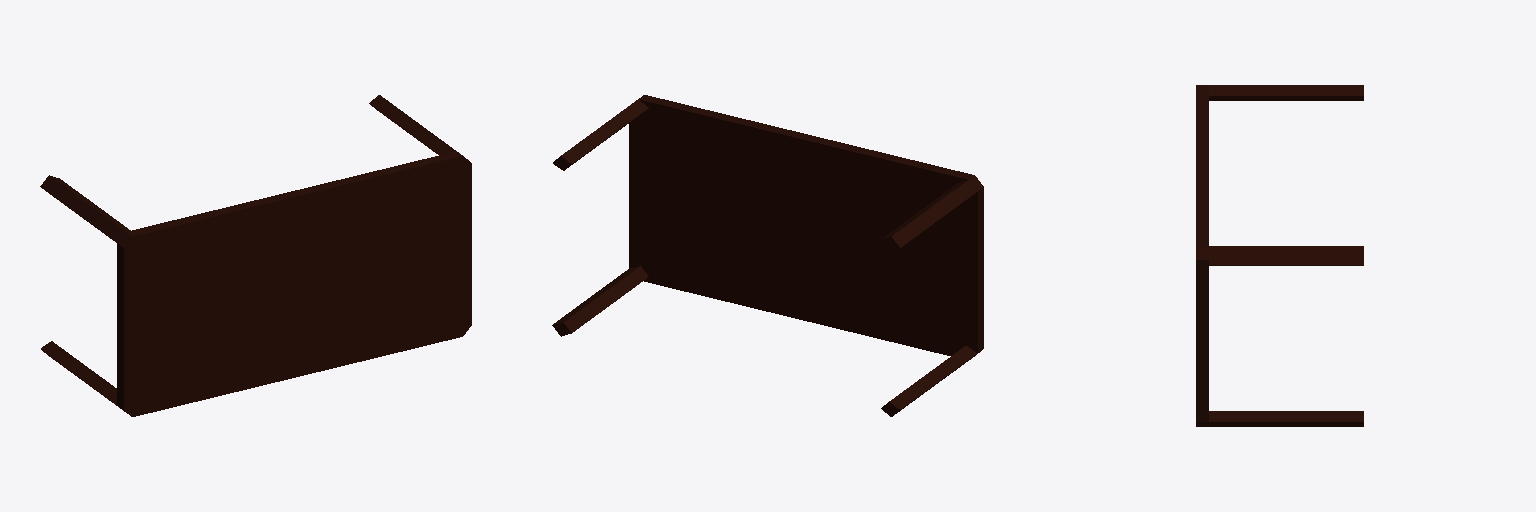
File: Table_01.obj
3 renders of one model, left to right at view 1: azimuth 30°, elevation 25°; view 2: azimuth 150°, elevation 25°; view 3: azimuth 270°, elevation 25°, orthographic.
Parts seen in each view (by area): view 1: pCube27; view 2: pCube27; view 3: pCube27.
Boxes of the visible parts, x1,y1,x2,y2 form: pCube27: [40, 95, 471, 416]; pCube27: [552, 95, 983, 416]; pCube27: [1196, 85, 1363, 426].
Size of the model in its own units: 435 by 216 by 180.